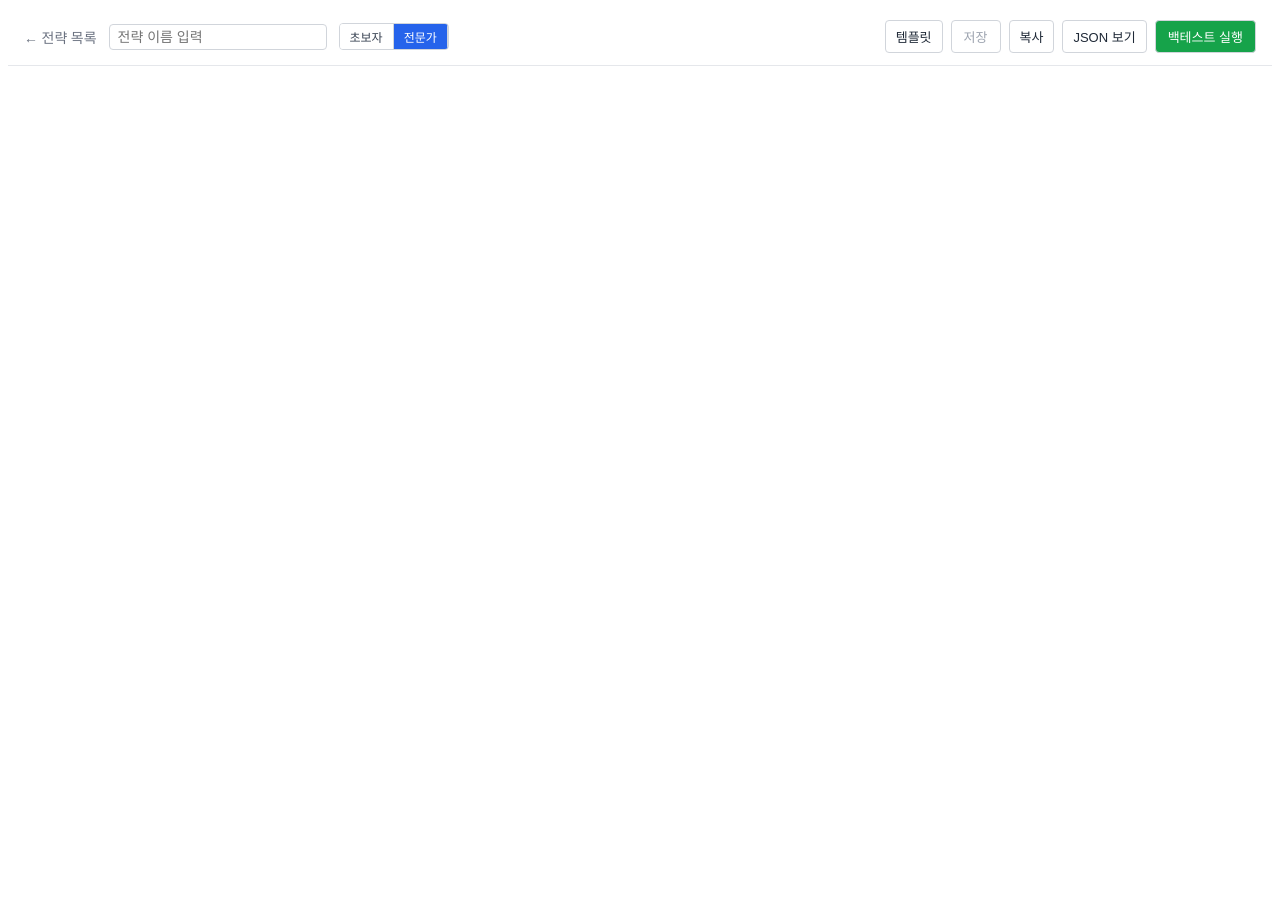
Scenario: StrategyHeader › JSON modal 닫기 — × 버튼
Click the button labelled "JSON 보기" at (1104, 36), box 1062,20 -> 1147,53
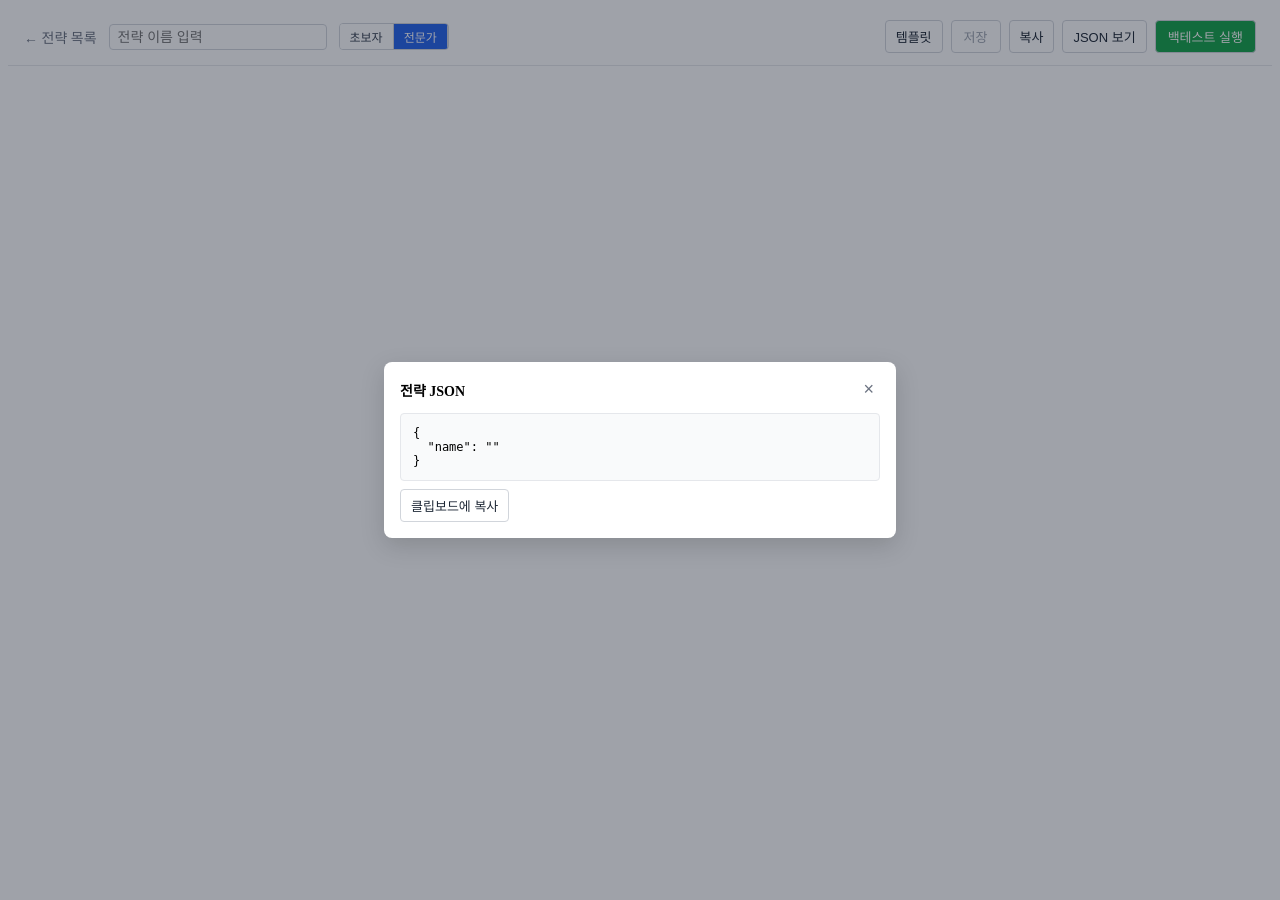
Expected: the dialog "전략 JSON" is shown
Click the button named "닫기" at (869, 390), box 858,378 -> 880,401
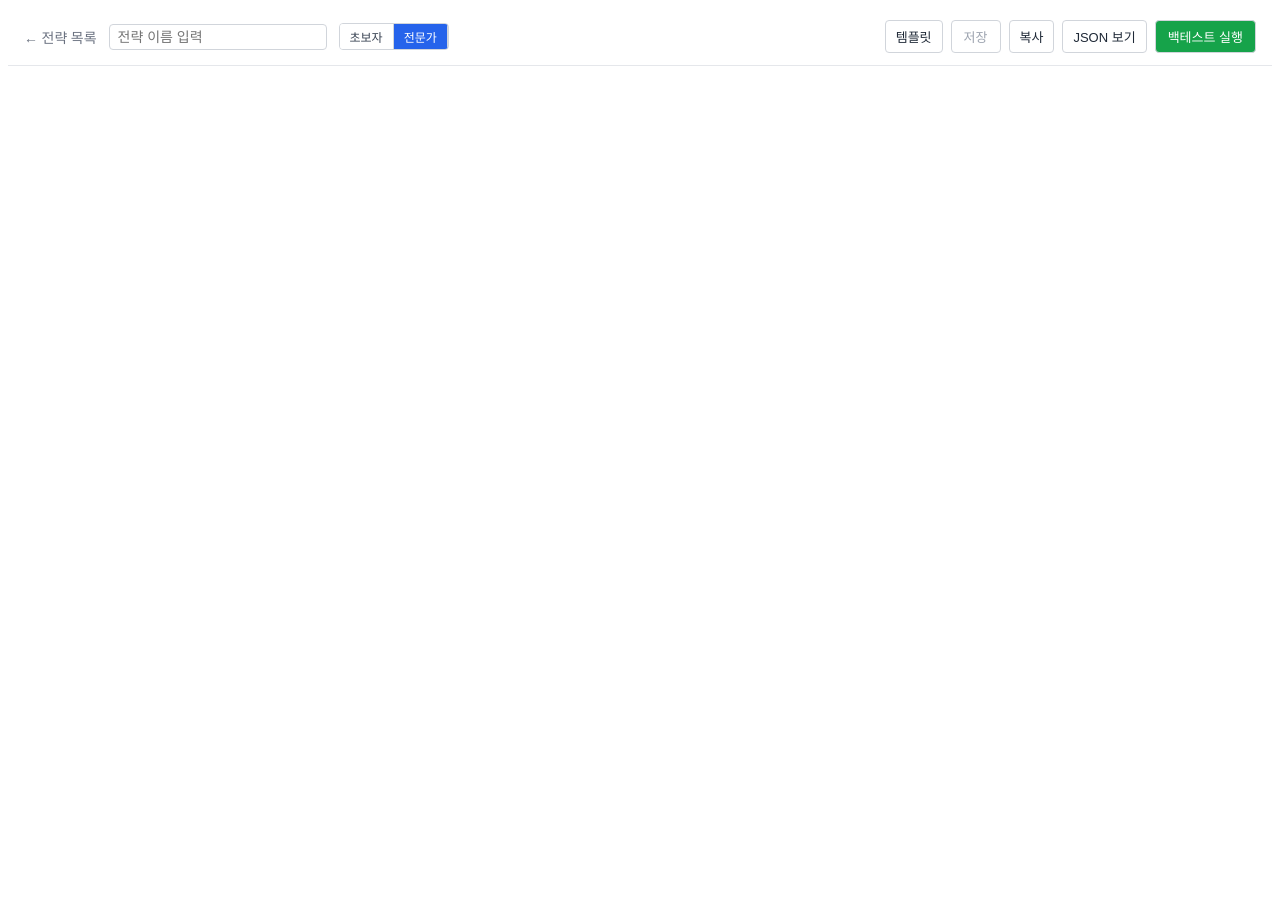
Expected: the heading "전략 JSON" is gone
